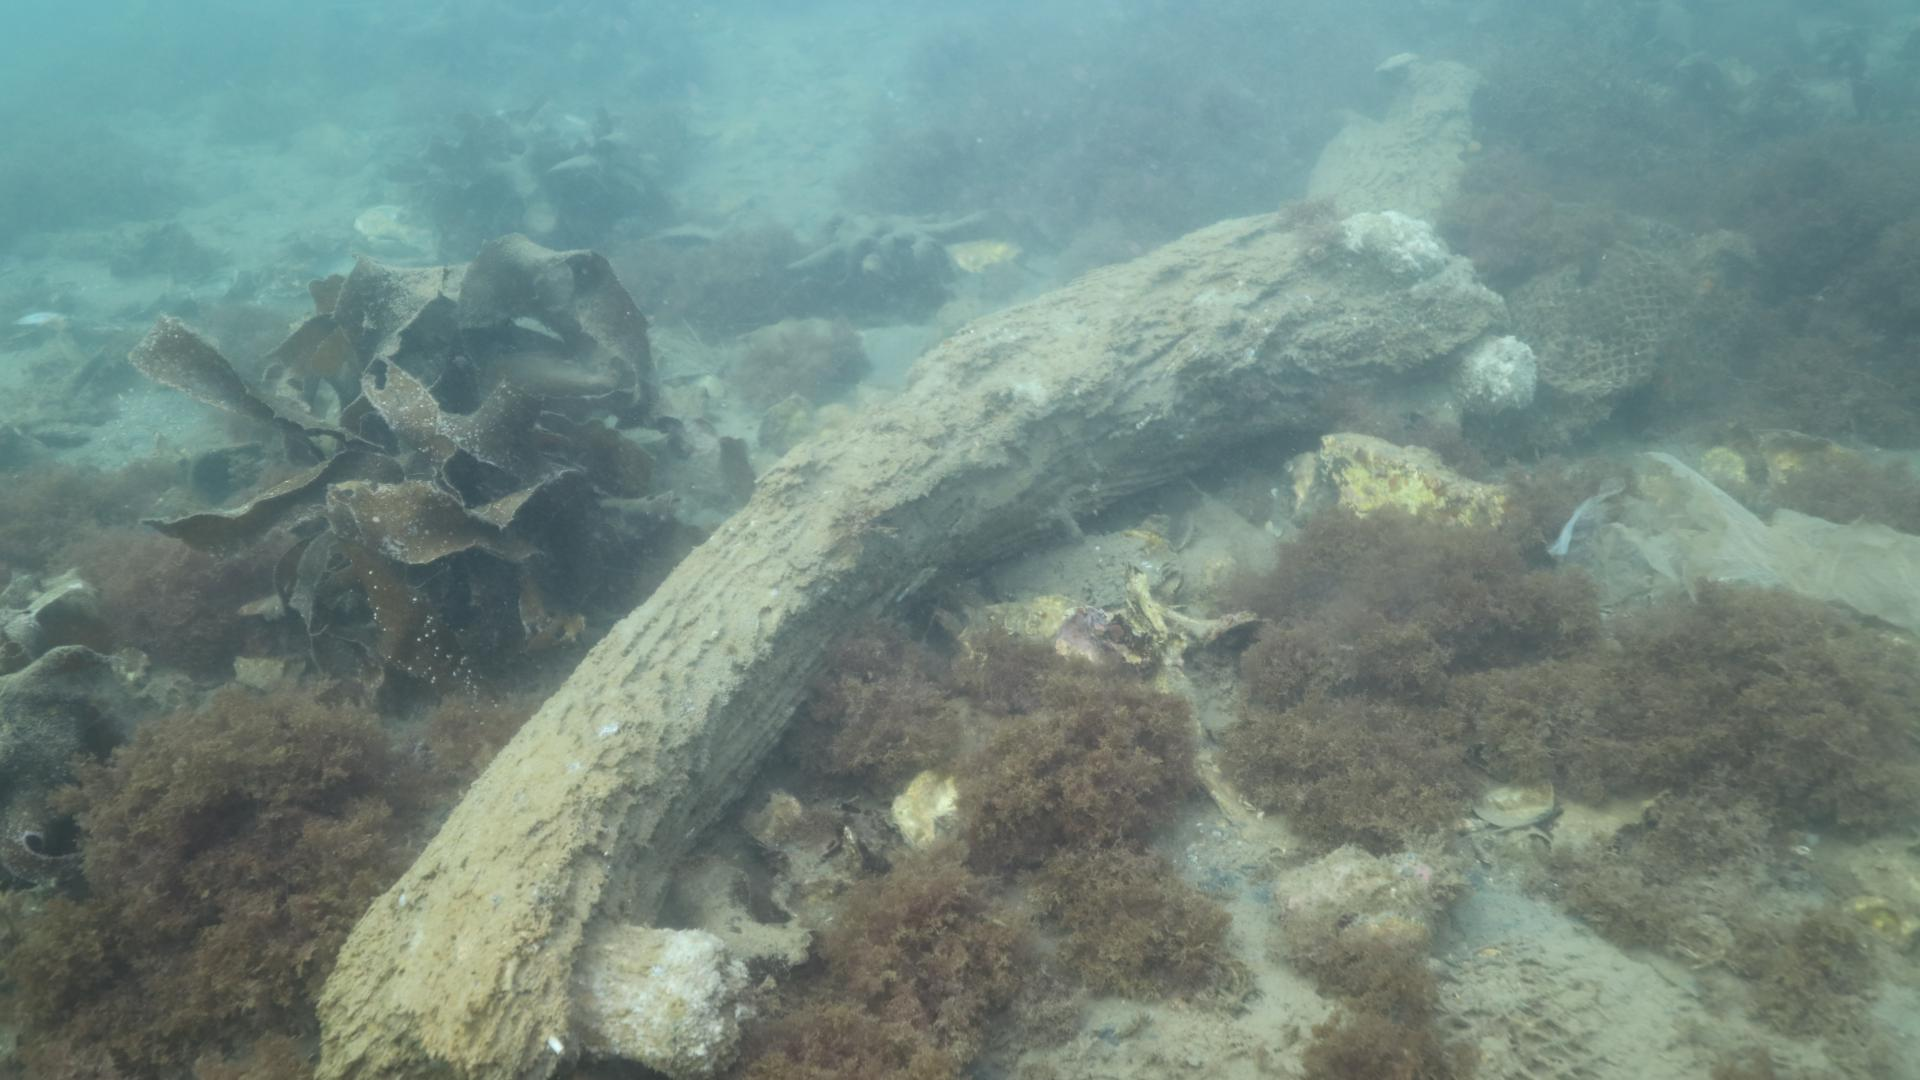fish net: (1511, 215, 1759, 404)
wood: (316, 199, 1505, 1080)
